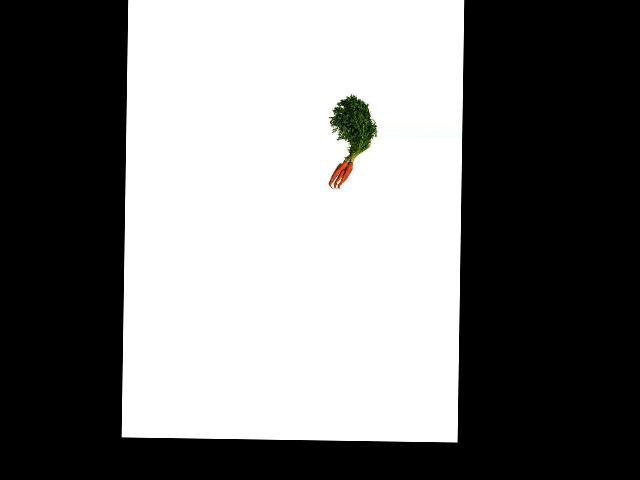carrot: (328, 158, 347, 184)
